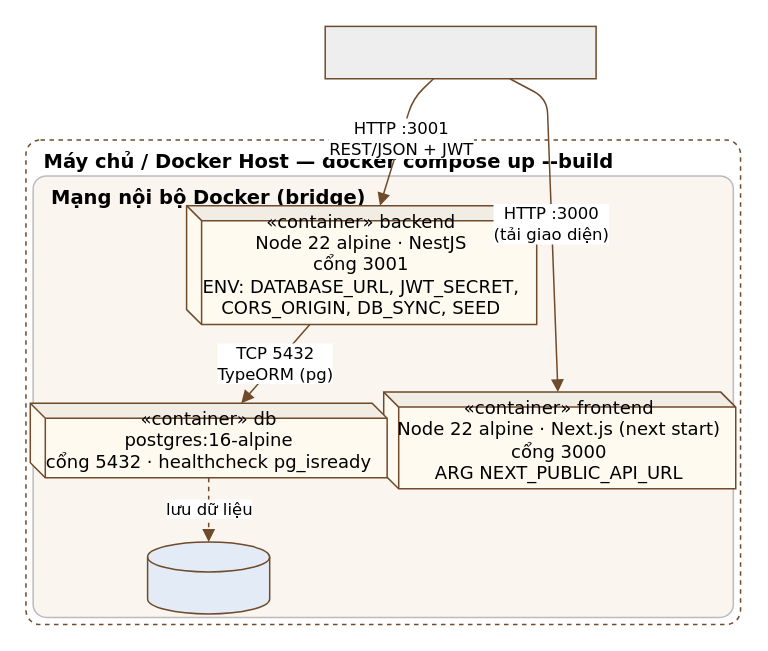
The diagram is 768 pixels wide and 651 high, and some of its shapes have lost their labels. Here are the shapes that lost their labels. From the top down, the box of each, then its label:
(324, 25, 596, 79): Máy người dùng Trình duyệt (Chrome/Edge)
(146, 540, 270, 614): «volume» brewlite-db
